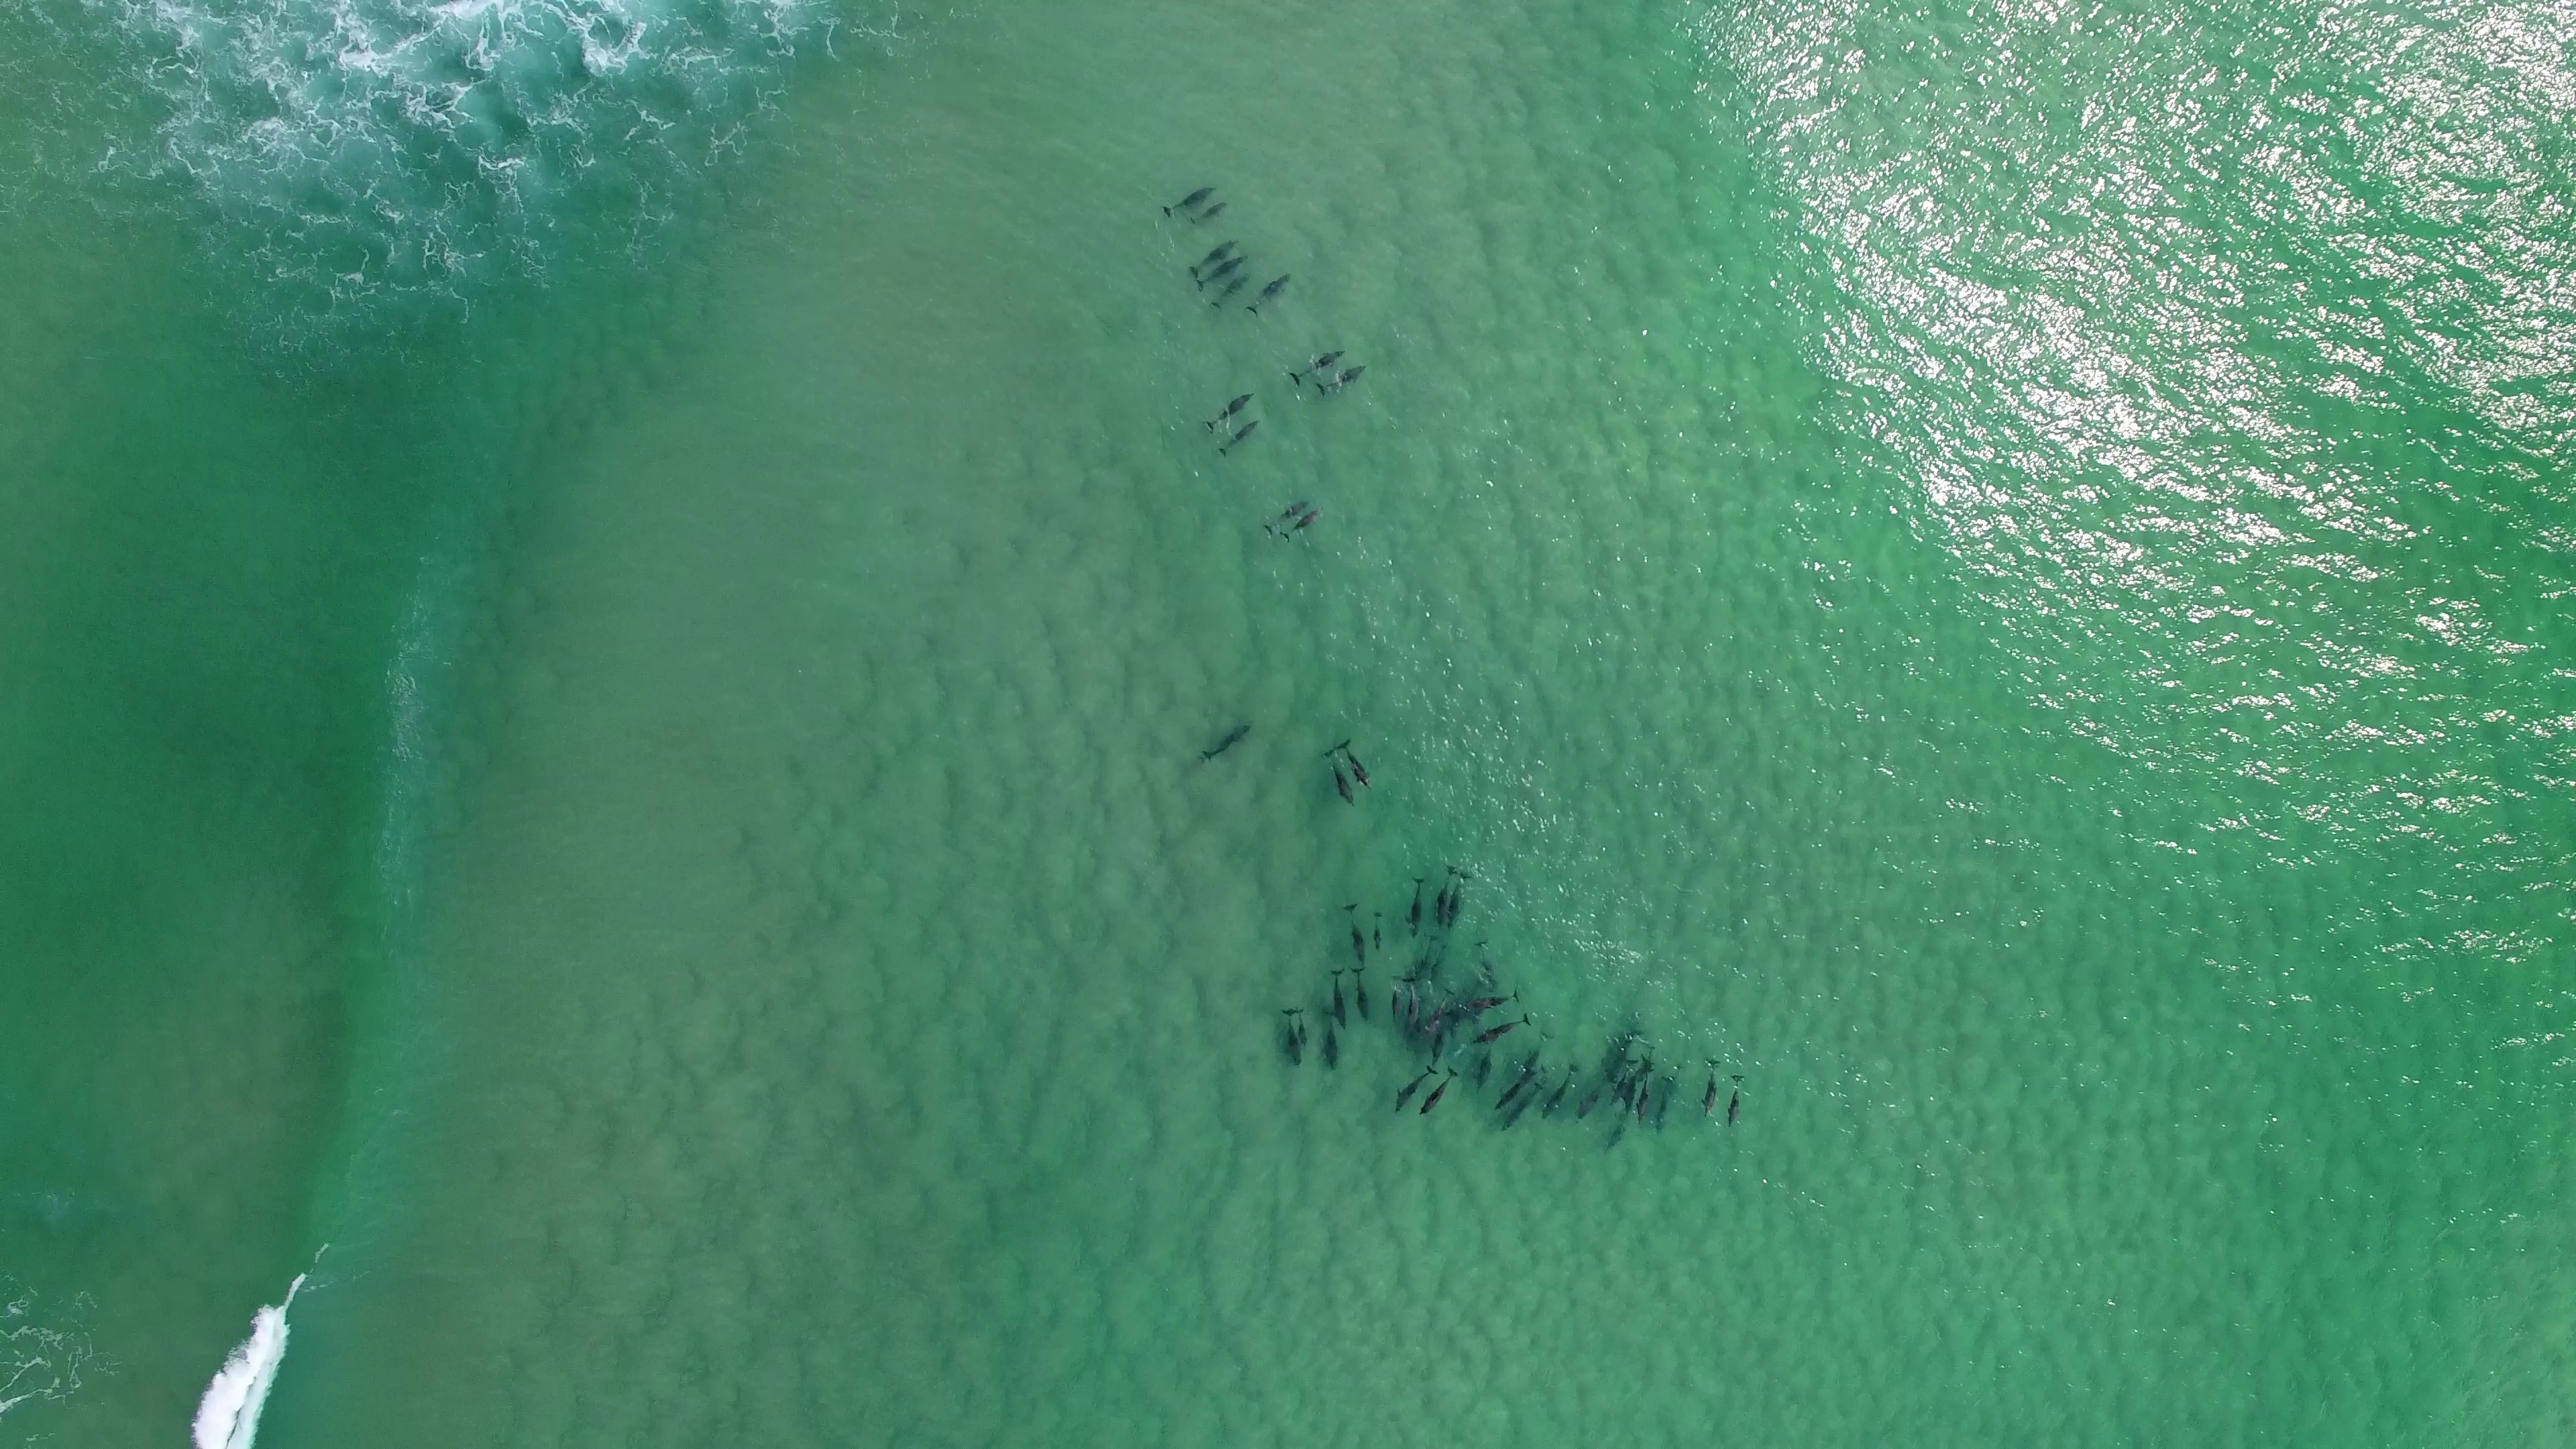dolphin: (1286, 343, 1352, 386), (1200, 715, 1254, 763), (1242, 269, 1288, 322), (1392, 1060, 1438, 1113), (1336, 738, 1380, 791), (1191, 253, 1251, 292), (1318, 748, 1357, 809), (1205, 387, 1256, 432), (1502, 1077, 1545, 1131), (1606, 1023, 1649, 1076), (1537, 1060, 1576, 1116), (1417, 1067, 1458, 1120), (1315, 357, 1369, 396), (1157, 184, 1219, 218), (1474, 1010, 1532, 1046), (1341, 902, 1371, 968), (1191, 237, 1240, 274), (1571, 1077, 1608, 1127), (1210, 269, 1251, 313), (1214, 419, 1260, 458), (1265, 495, 1311, 534), (1654, 1058, 1684, 1116), (1697, 1058, 1723, 1123), (1518, 1030, 1559, 1070), (1435, 863, 1460, 929), (1635, 1060, 1660, 1125), (1283, 504, 1323, 543), (1493, 1067, 1534, 1106), (1281, 1005, 1304, 1070), (1447, 872, 1470, 934), (1723, 1072, 1748, 1129), (1350, 968, 1375, 1023), (1185, 198, 1233, 226), (1330, 968, 1352, 1031), (1472, 939, 1500, 987), (1610, 1058, 1640, 1102), (1468, 985, 1522, 1010), (1401, 978, 1422, 1037), (1474, 1039, 1497, 1092), (1322, 1008, 1339, 1074), (1407, 876, 1424, 939), (1430, 1019, 1451, 1067), (1414, 934, 1437, 975), (1430, 985, 1453, 1026), (1387, 975, 1403, 1030), (1428, 941, 1449, 982), (1369, 909, 1385, 954), (1297, 1005, 1307, 1051)
